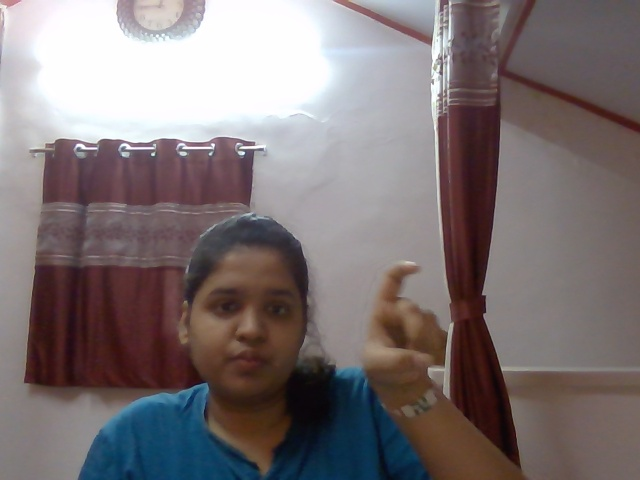x: (346, 246, 460, 406)
